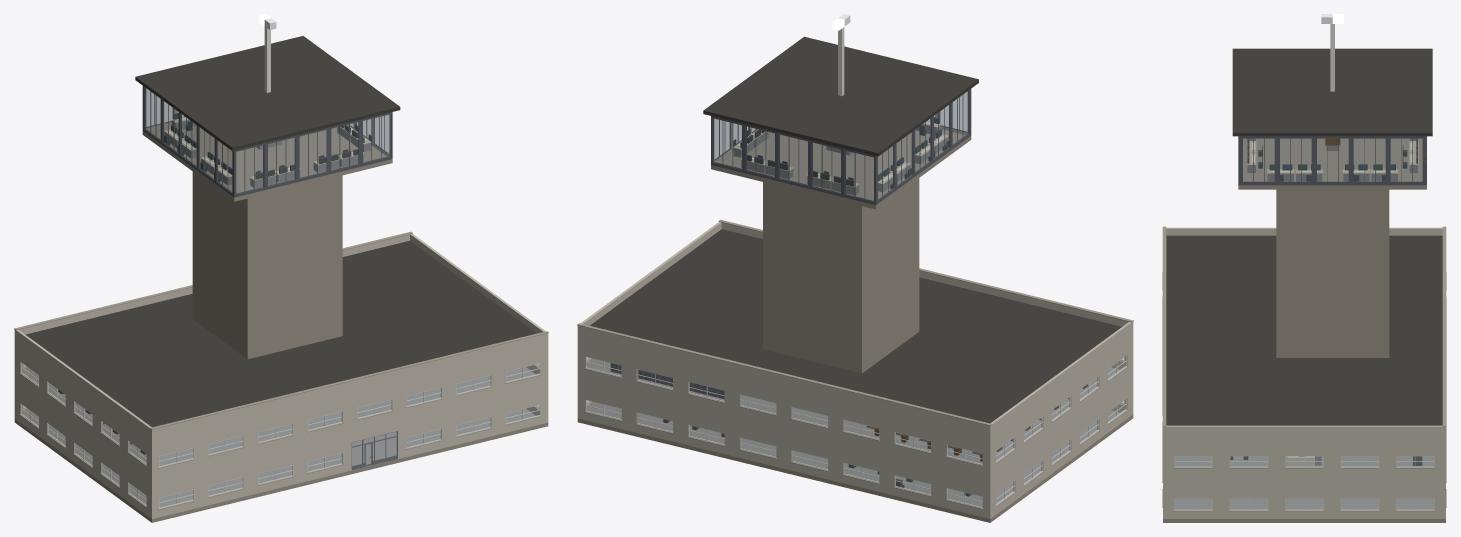
The model's file is control_tower.glb.
The picture shows the model from 3 angles, left to right: view 1: azimuth 30°, elevation 25°; view 2: azimuth 150°, elevation 25°; view 3: azimuth 270°, elevation 25°; orthographic projection. The views are drawn at different scales.
Visible parts, largest first — view 1: LOD0, FURN; view 2: LOD0, FURN; view 3: LOD0, FURN.
Part boxes in pixels (x1=…): LOD0: x1=14, y1=14, x2=548, y2=522; FURN: x1=49, y1=113, x2=371, y2=454; LOD0: x1=577, y1=14, x2=1133, y2=522; FURN: x1=610, y1=117, x2=1087, y2=496; LOD0: x1=1162, y1=14, x2=1446, y2=522; FURN: x1=1230, y1=138, x2=1422, y2=465.
Size of what is drawn, in the model's own units: 50.12 by 47.7 by 30.12.
